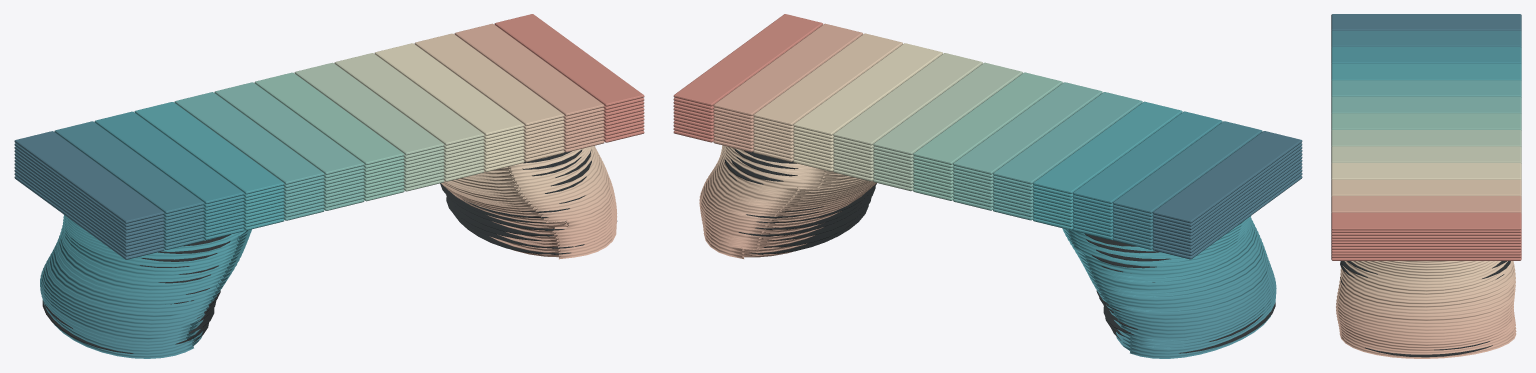
Rendered from lattice-table.glb.
3 renders of one model, left to right at view 1: azimuth 30°, elevation 25°; view 2: azimuth 150°, elevation 25°; view 3: azimuth 270°, elevation 25°, orthographic. The views are drawn at different scales.
Parts seen in each view (by area): view 1: continuous top print course.143, continuous top print course.154, continuous top print course.150, continuous top print course.155, continuous top print course.145, continuous top print course.149, continuous top print course.144, continuous top print course.146, continuous top print course.147, continuous top print course.151, continuous top print course.152, continuous top print course.153 (+52 smaller); view 2: continuous top print course.143, continuous top print course.152, continuous top print course.146, continuous top print course.148, continuous top print course.149, continuous top print course.144, continuous top print course.147, continuous top print course.151, continuous top print course.153, continuous top print course.155, continuous top print course.145, continuous top print course.150 (+53 smaller); view 3: continuous top print course.155, continuous top print course.146, continuous top print course.148, continuous top print course.144, continuous top print course.153, continuous top print course.143, continuous top print course.150, continuous top print course.152, continuous top print course.145, continuous top print course.147, continuous top print course.149, continuous top print course.151 (+46 smaller).
Boxes of the visible parts, x1,y1,x2,y2 form: continuous top print course.143: (14, 131, 164, 223); continuous top print course.154: (454, 23, 604, 116); continuous top print course.150: (294, 62, 444, 155); continuous top print course.155: (494, 14, 644, 106); continuous top print course.145: (94, 111, 244, 203); continuous top print course.149: (254, 72, 404, 164); continuous top print course.144: (54, 121, 204, 213); continuous top print course.146: (134, 102, 284, 194); continuous top print course.147: (174, 92, 324, 184); continuous top print course.151: (334, 53, 484, 145); continuous top print course.152: (374, 43, 524, 135); continuous top print course.153: (414, 33, 564, 125); continuous top print course.143: (1152, 131, 1302, 223); continuous top print course.152: (793, 43, 942, 135); continuous top print course.146: (1033, 101, 1182, 193); continuous top print course.148: (953, 82, 1102, 174); continuous top print course.149: (913, 72, 1062, 164); continuous top print course.144: (1113, 121, 1262, 213); continuous top print course.147: (993, 92, 1142, 184); continuous top print course.151: (833, 53, 982, 145); continuous top print course.153: (753, 33, 902, 125); continuous top print course.155: (673, 14, 822, 106); continuous top print course.145: (1073, 111, 1222, 203); continuous top print course.150: (873, 62, 1022, 154); continuous top print course.155: (1331, 212, 1521, 230); continuous top print course.146: (1331, 63, 1521, 80); continuous top print course.148: (1331, 96, 1521, 113); continuous top print course.144: (1331, 30, 1521, 47); continuous top print course.153: (1331, 179, 1521, 196); continuous top print course.143: (1331, 14, 1521, 30); continuous top print course.150: (1331, 130, 1521, 146); continuous top print course.152: (1331, 163, 1521, 179); continuous top print course.145: (1331, 47, 1521, 63); continuous top print course.147: (1331, 80, 1521, 96); continuous top print course.149: (1331, 113, 1521, 129); continuous top print course.151: (1331, 146, 1521, 162).
Size of the model in its own units: 1.55 by 0.4161 by 0.556.
